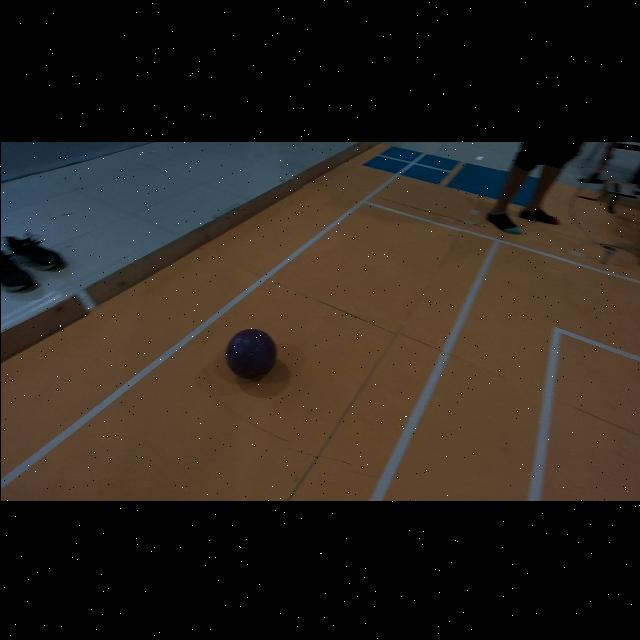P: (225, 327, 276, 378)
